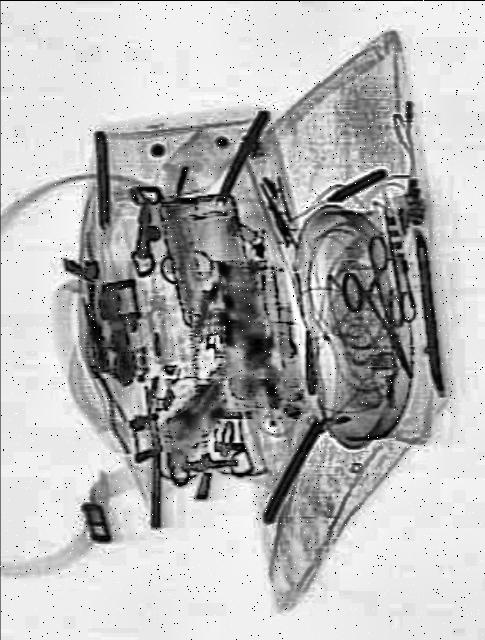Scissors: (326, 235, 440, 399), (370, 205, 418, 332)
